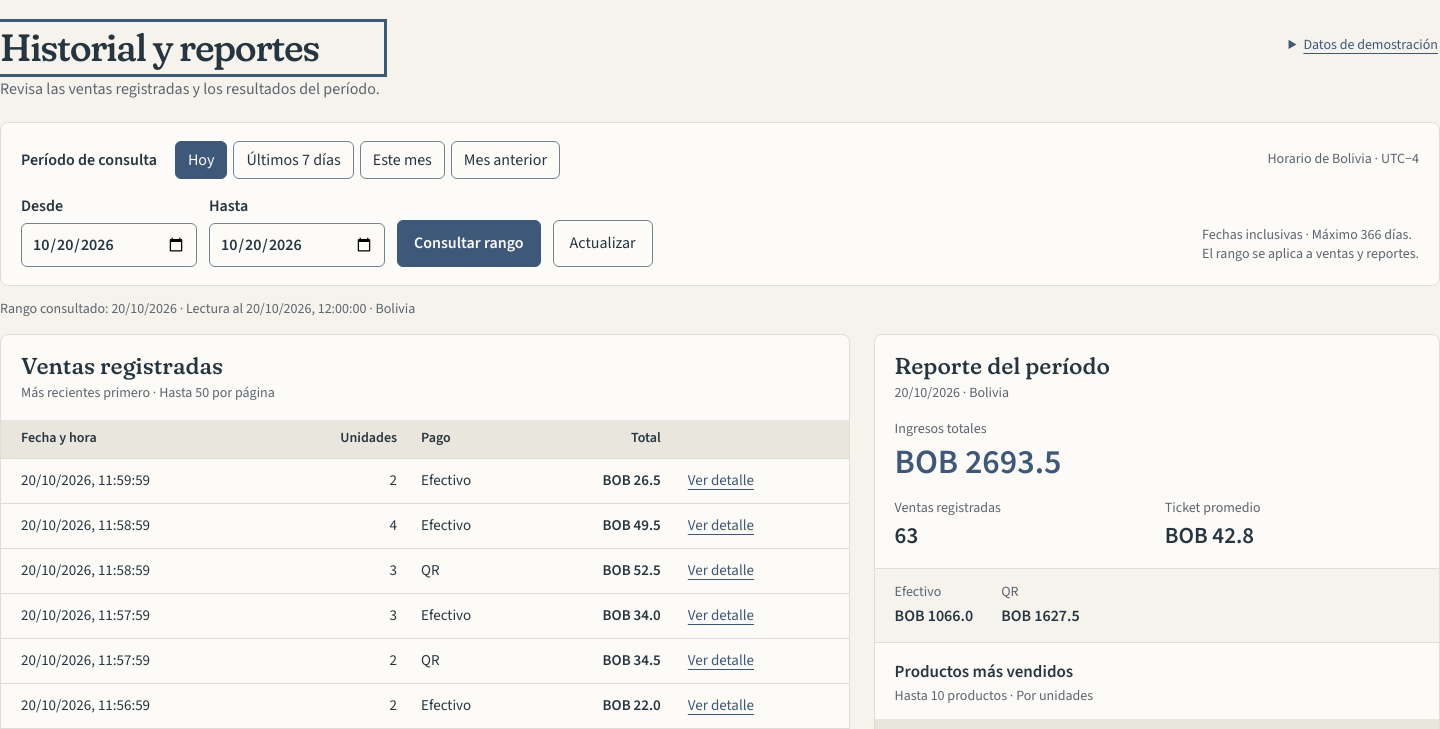
Test: Historial y reportes, interfaz completa › borrador inválido o sin aplicar nunca muestra resultados como propios ni consulta
This screenshot has width=1440, height=729.
Type "2026-10-21" into the date field labelled "Desde" at (109, 245), box [21, 223, 197, 267]
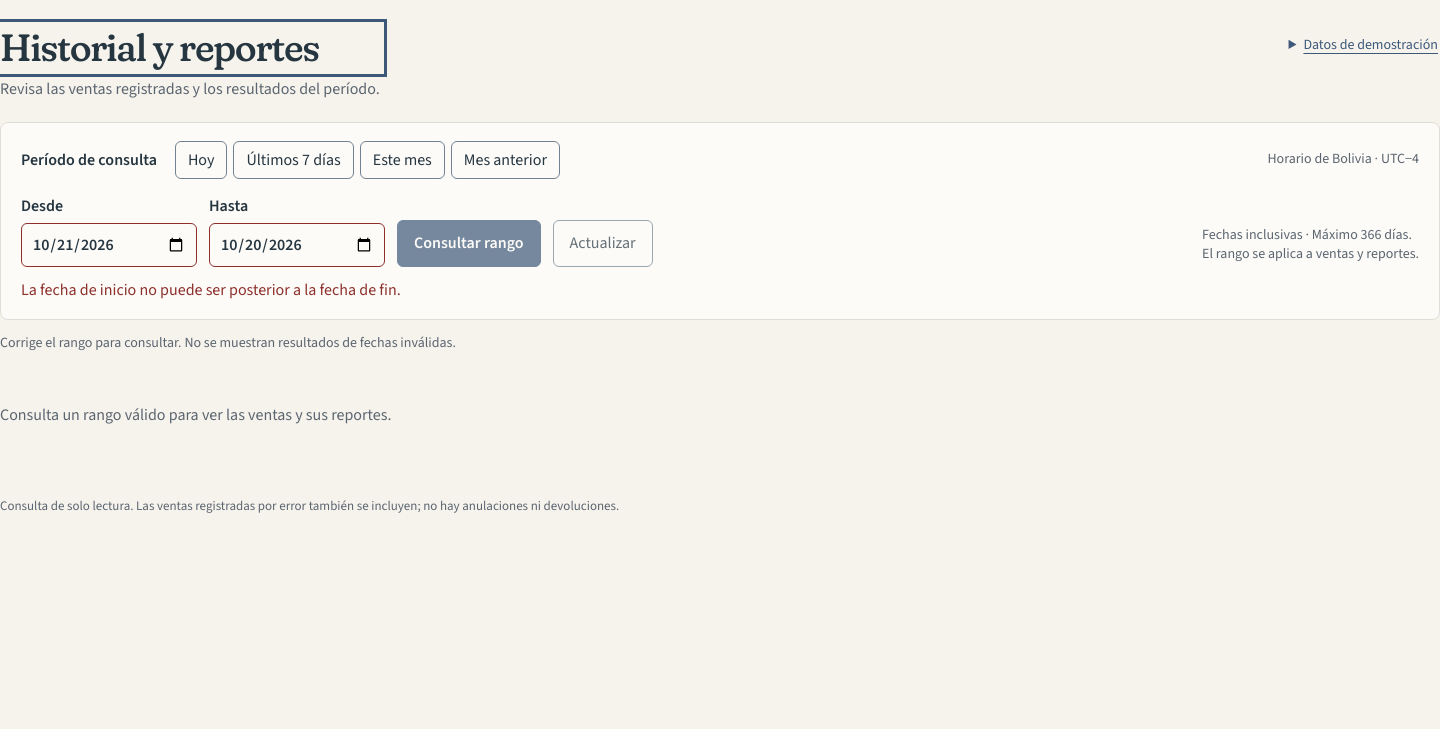
Check: the message "La fecha de inicio no puede ser posterior a la fecha de fin." is shown, box [21, 279, 401, 301]
Submit the form named "Filtrar por fechas", box [0, 122, 1439, 320]
Type "2020-01-01" into the date field labelled "Desde" at (109, 245), box [21, 223, 197, 267]
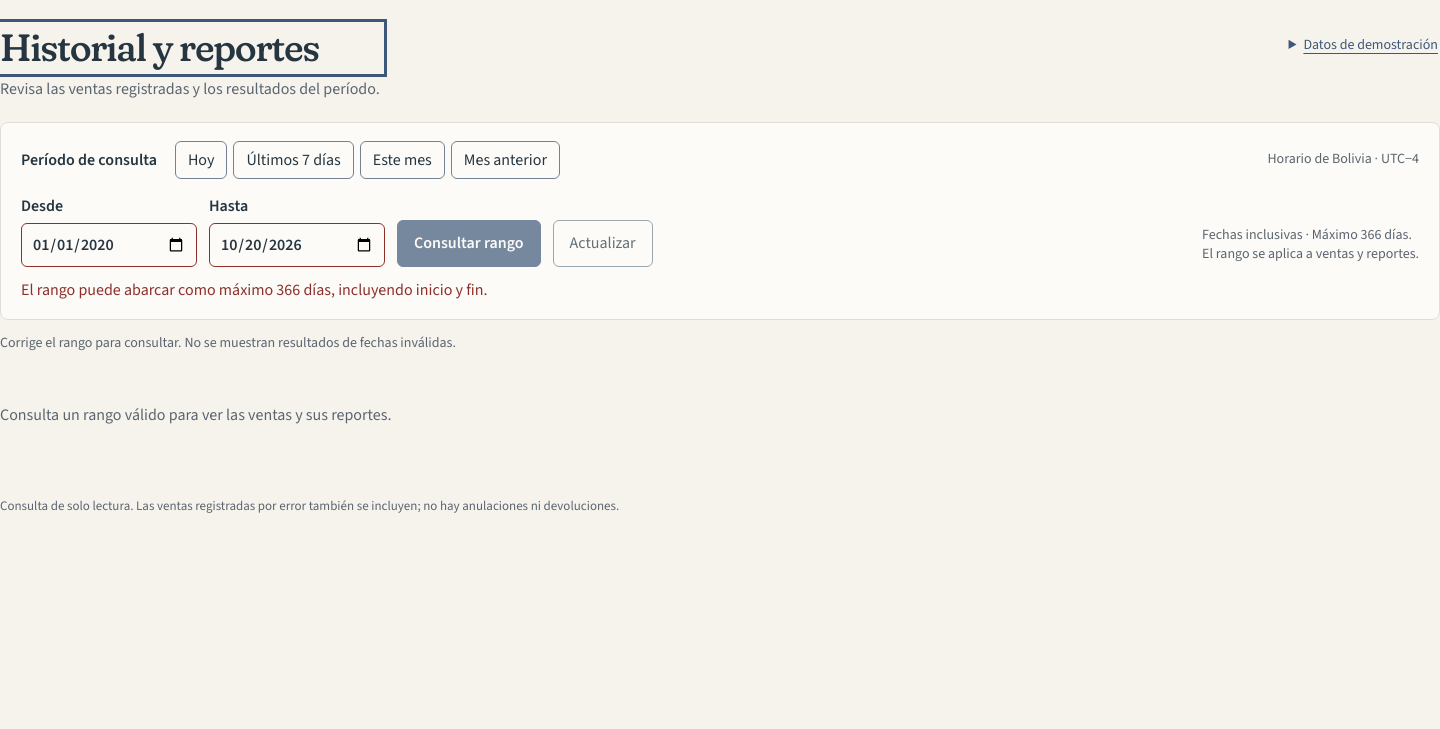
Check: the message "El rango puede abarcar como máximo 366 días, incluyendo inicio y fin." is shown, box [21, 279, 488, 301]
Type "2026-10-19" into the date field labelled "Desde" at (109, 245), box [21, 223, 197, 267]
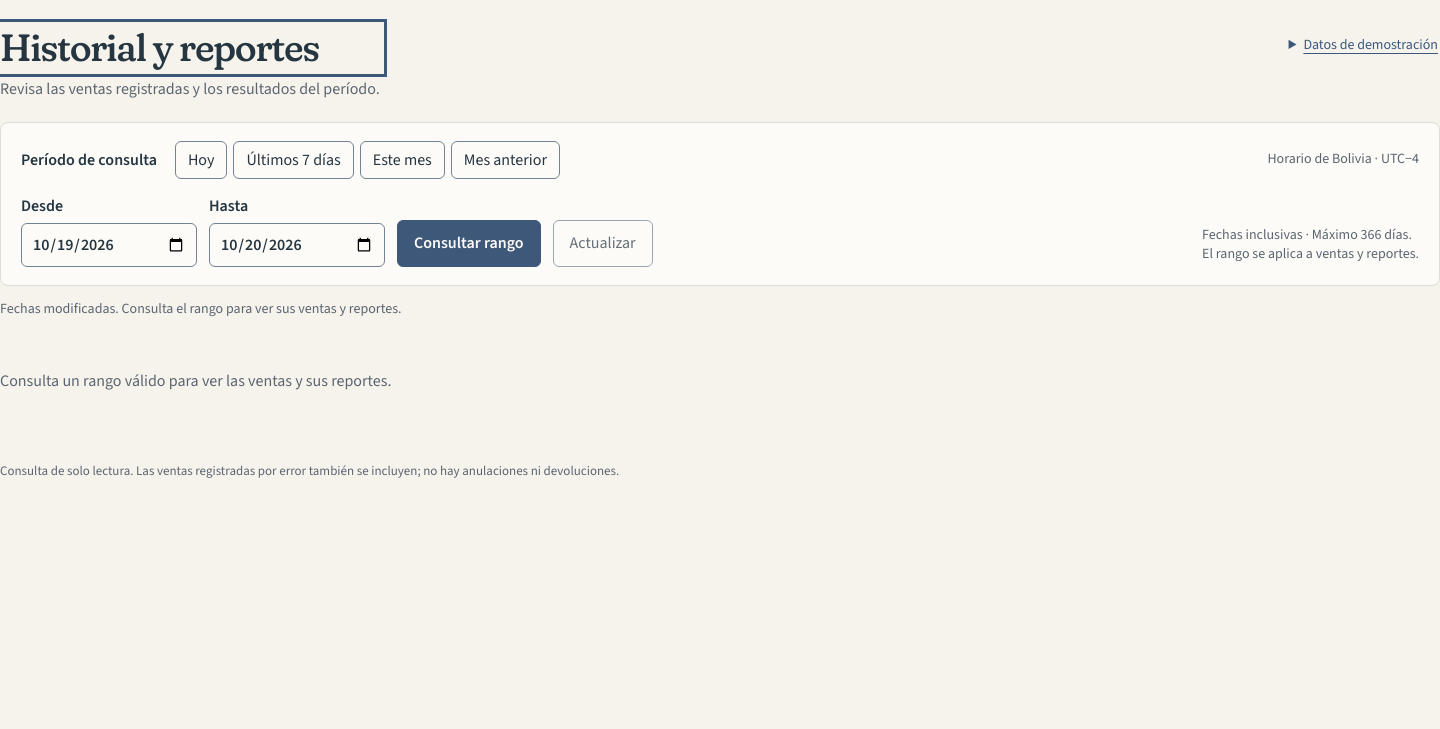
Check: the text "Fechas modificadas. Consulta el rango para ver sus ventas y reportes." is shown, box [0, 299, 402, 319]
Click the button "Consultar rango" at (469, 244), box [397, 220, 541, 267]
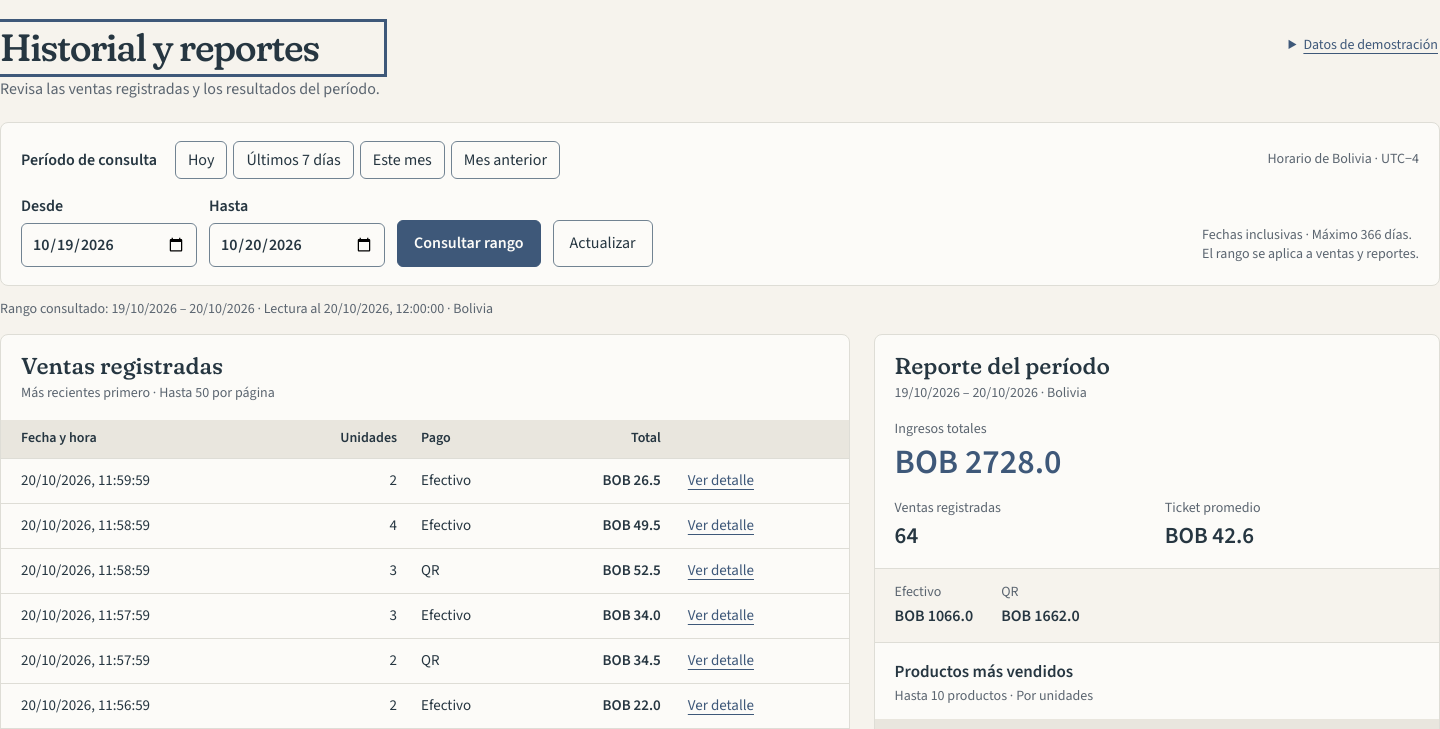
Check: the text "19/10/2026 – 20/10/2026 · Bolivia" is shown, box [895, 384, 1110, 404]
